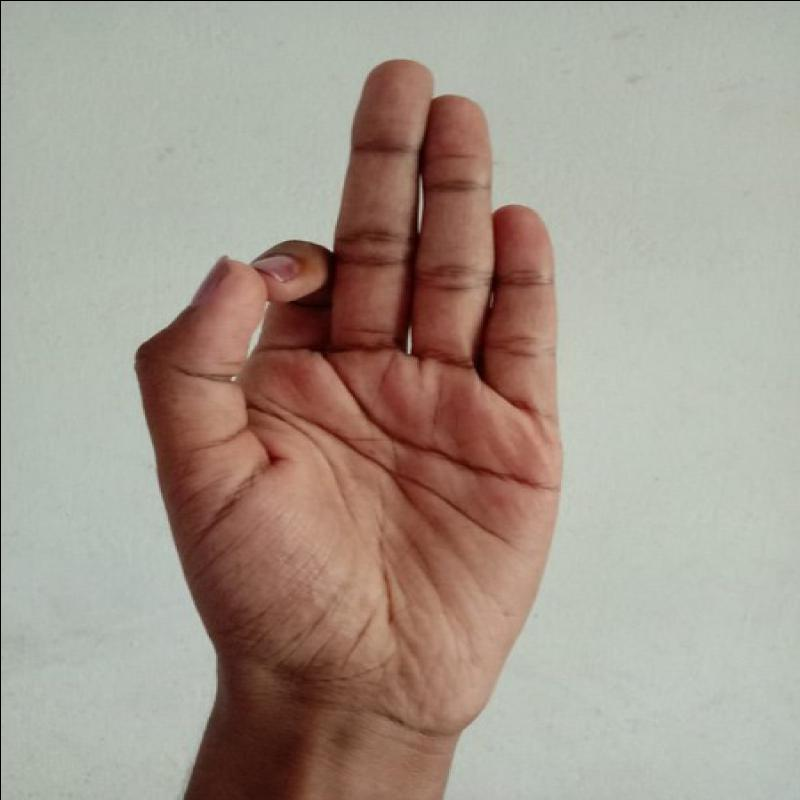Mudraakhyam: (116, 44, 582, 767)
